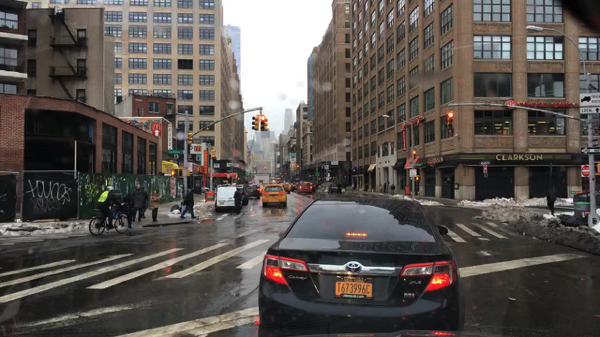bike: (90, 205, 129, 237)
car: (257, 198, 464, 336), (261, 181, 287, 206), (572, 185, 599, 208), (214, 187, 237, 211), (236, 188, 249, 205), (246, 184, 260, 199), (326, 184, 343, 194), (297, 183, 312, 194), (282, 184, 291, 192), (200, 185, 209, 193), (312, 182, 317, 193), (292, 183, 298, 192)
person: (132, 184, 147, 223), (181, 188, 196, 219), (123, 193, 134, 230), (545, 183, 557, 216), (149, 191, 162, 221), (111, 188, 121, 217), (140, 187, 147, 219), (234, 188, 242, 214), (390, 184, 395, 194), (378, 184, 382, 194), (343, 183, 347, 191), (383, 183, 386, 193), (365, 183, 368, 193)
rider: (97, 187, 125, 230)
traffic light: (446, 112, 454, 129), (261, 116, 268, 132), (251, 115, 257, 132), (169, 168, 178, 177), (188, 132, 194, 145), (595, 162, 599, 175), (184, 171, 192, 176), (412, 151, 416, 159), (212, 150, 215, 159), (415, 176, 419, 181), (296, 165, 299, 171), (264, 167, 266, 172)
traffic sign: (579, 94, 599, 114), (580, 148, 599, 154), (580, 165, 588, 176), (410, 169, 416, 179), (593, 126, 598, 136), (169, 151, 184, 154), (481, 164, 486, 173), (412, 163, 422, 167), (592, 140, 598, 146), (480, 162, 489, 166), (324, 164, 329, 171), (315, 173, 320, 178)
truck: (253, 173, 269, 185)
